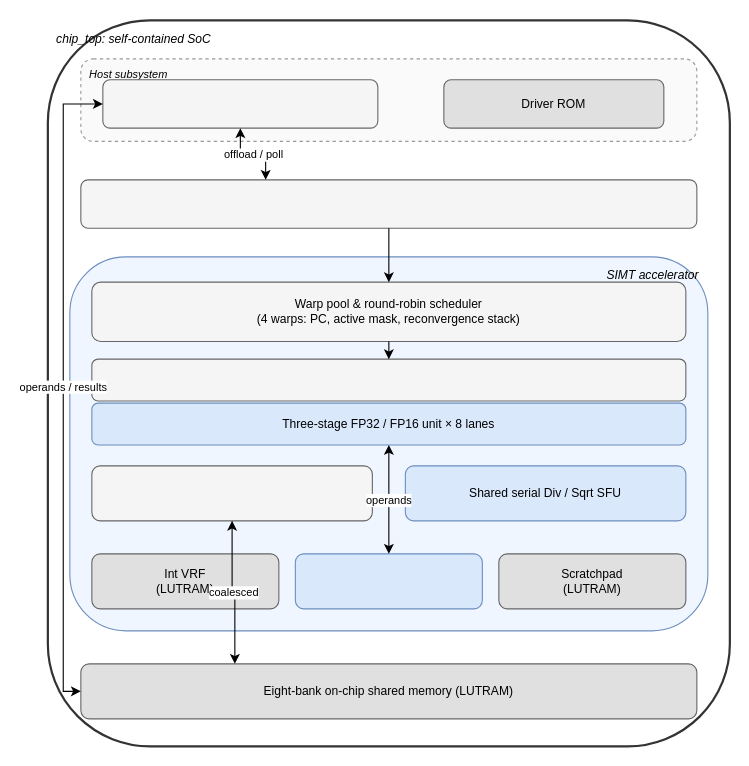
Some shapes in this 749 by 766 pixel diagram are drawn without their labels. Here are the shapes that lost their labels. From the top down, the centre of each, then its label:
At (240,103): "RV32I five-stage host core".
At (388,203): "MMIO offload interface: kernel PC, base ptrs, N, GO / DONE".
At (388,379): "Integer ALU × 8 lanes".
At (231,493): "Coalescing memory engine".
At (388,581): "FP RF (LUTRAM)".
